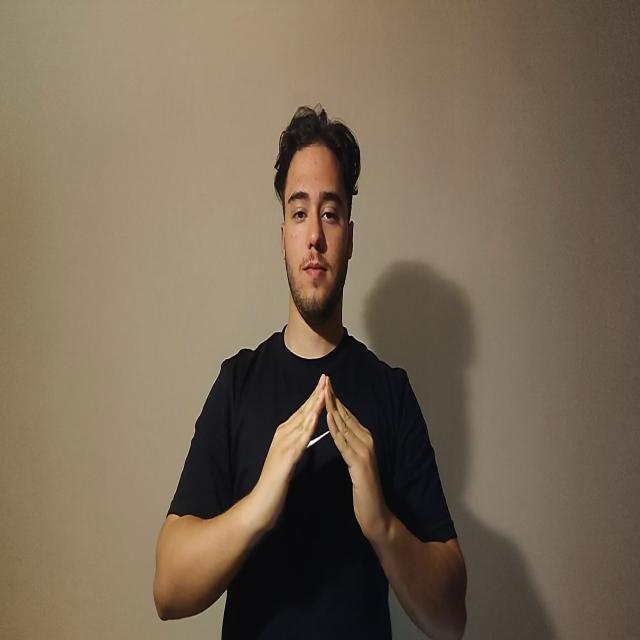house: (248, 372, 386, 545)
